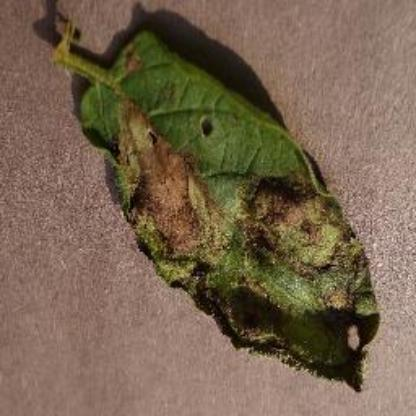Late-Blight: (42, 16, 392, 398)
